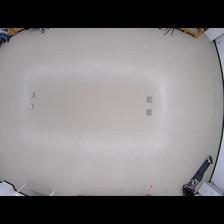fall: (183, 153, 214, 196)
